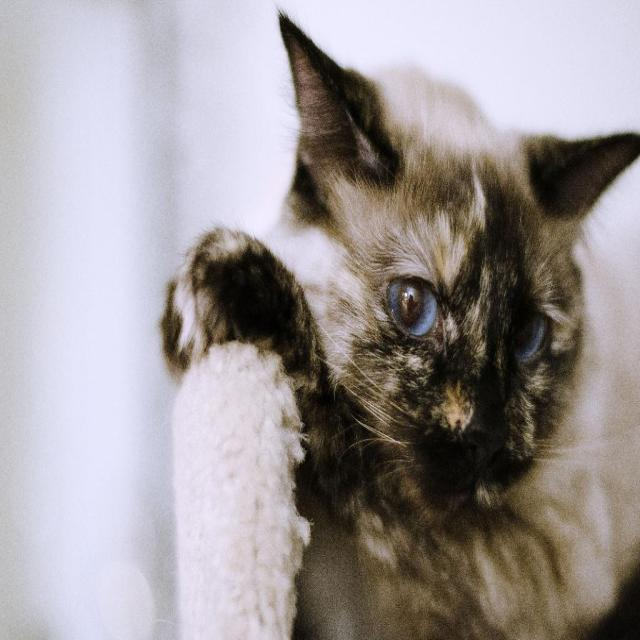Cat: (164, 0, 638, 638)
